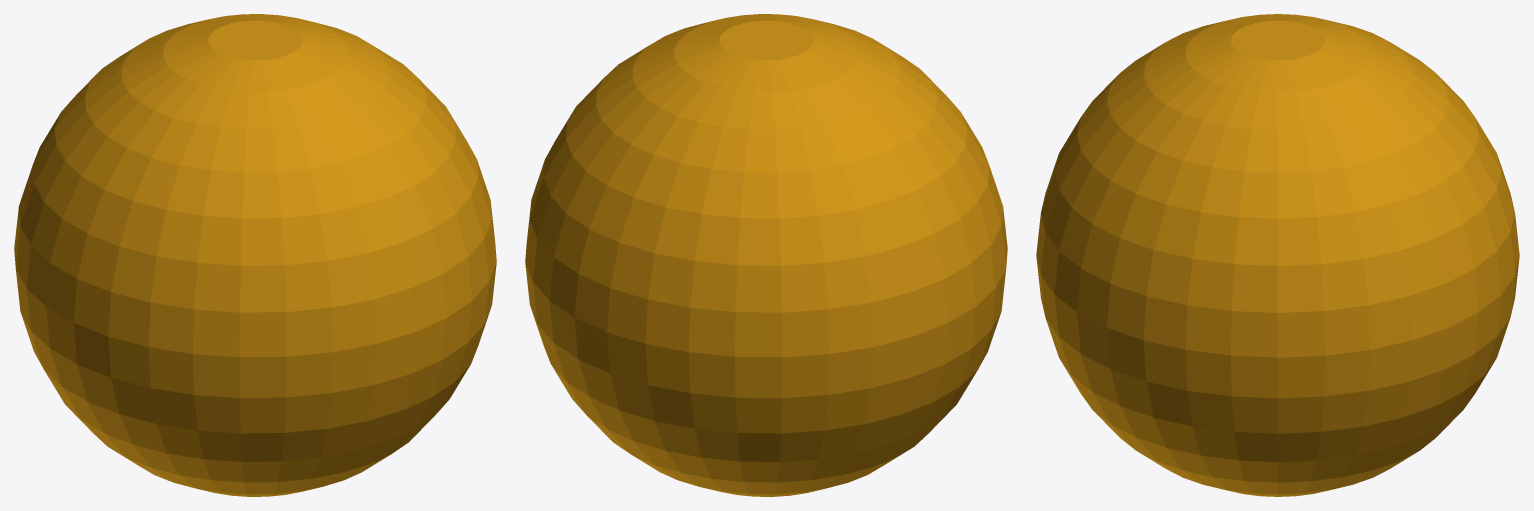
Rendered from torpedo.fbx.
3 views of the same model, side by side, from view 1: azimuth 30°, elevation 25°; view 2: azimuth 150°, elevation 25°; view 3: azimuth 270°, elevation 25° (orthographic).
Parts seen in each view (by area): view 1: Sphere; view 2: Sphere; view 3: Sphere.
Boxes of the visible parts, x1,y1,x2,y2 form: Sphere: (14,14,496,496); Sphere: (525,14,1007,496); Sphere: (1036,14,1519,496).
Size of the model in its own units: 200 by 196 by 200.
